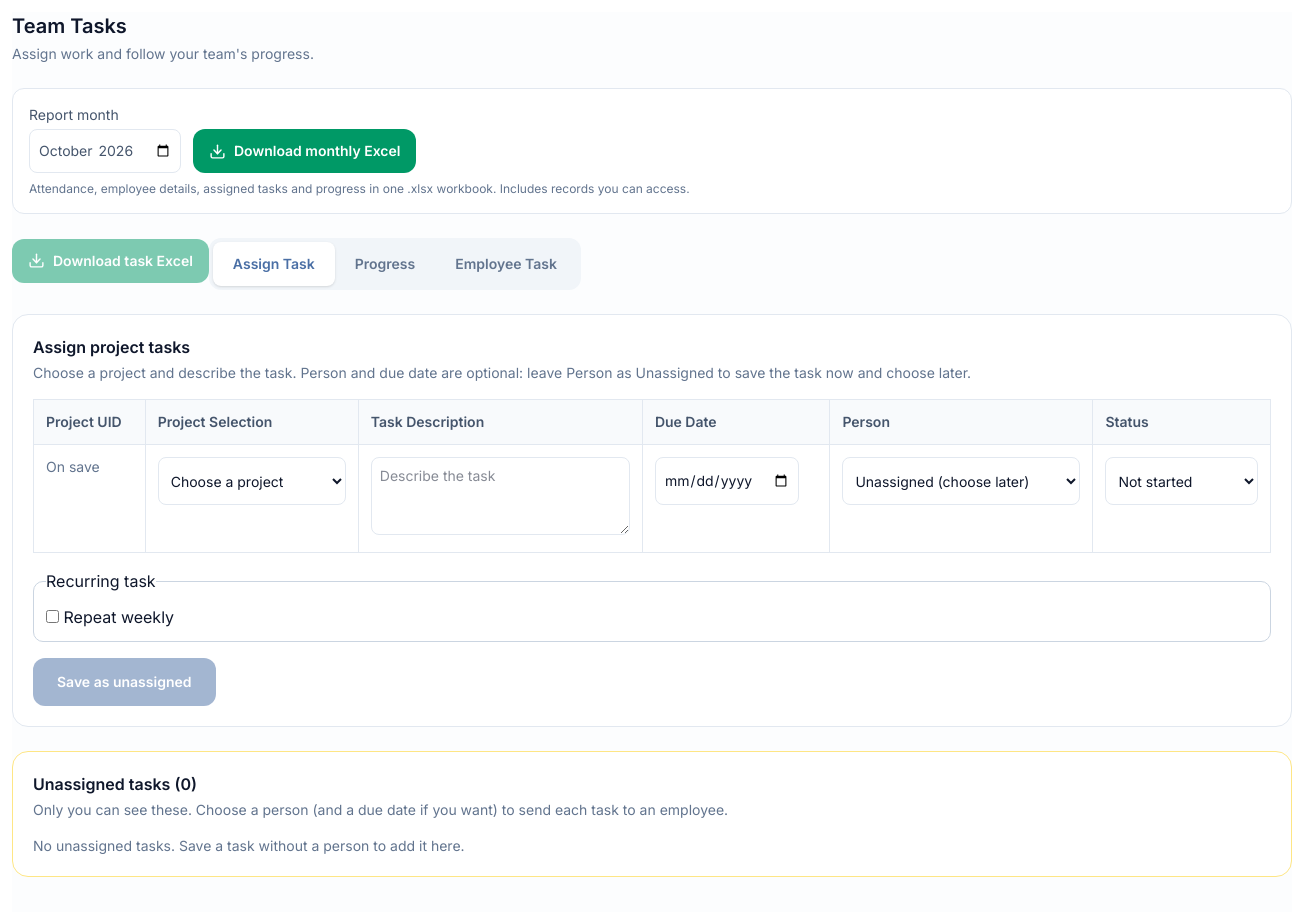
Scenario: manager task assignments › keeps the task form on a failed assignment
This screenshot has width=1292, height=912.
Select "My Employee" in the dropdown named "Person" at (961, 481), box 842,457 -> 1080,505
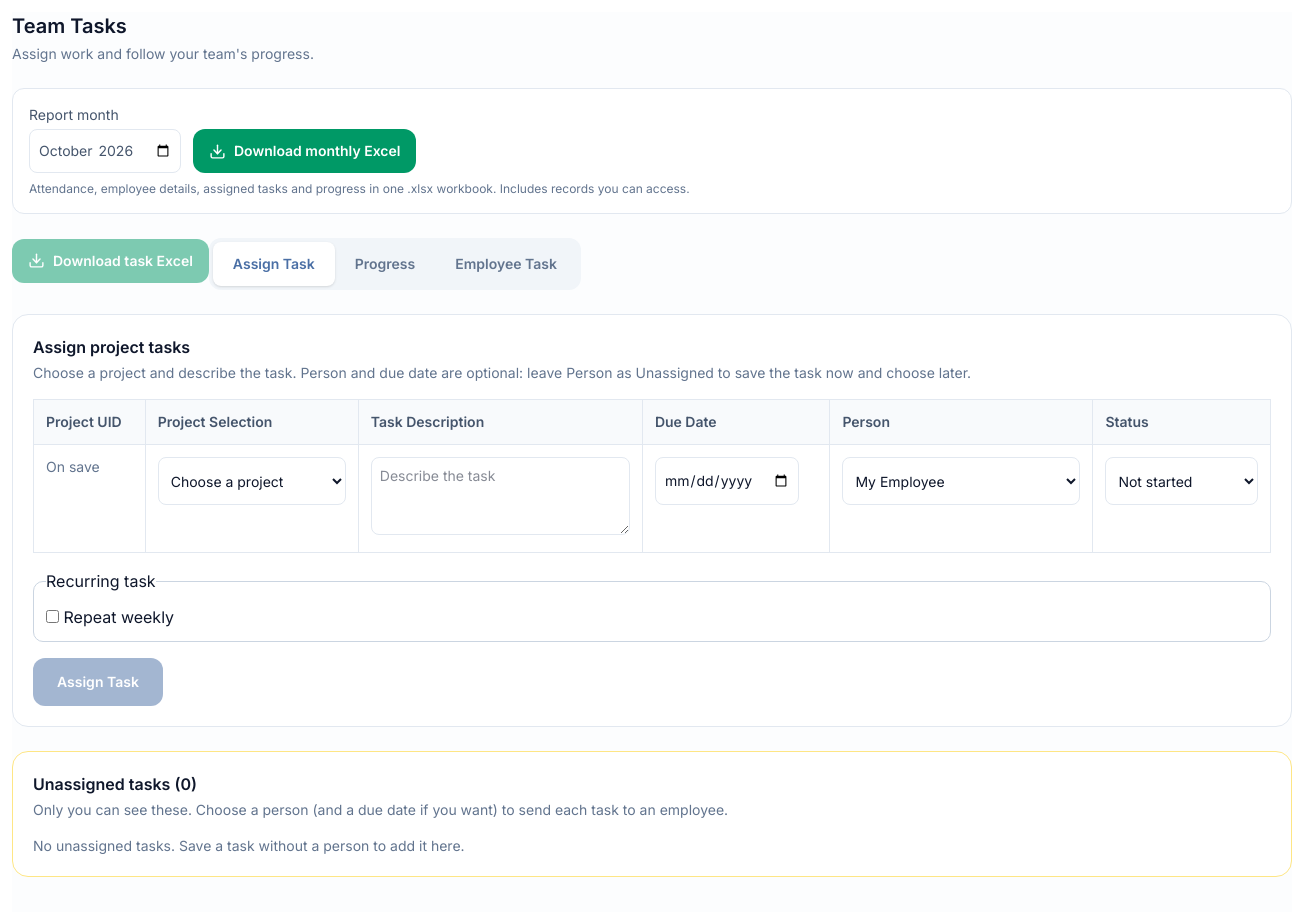
Select "+ Add new project" in the dropdown named "Project Selection" at (252, 481), box 158,457 -> 346,505
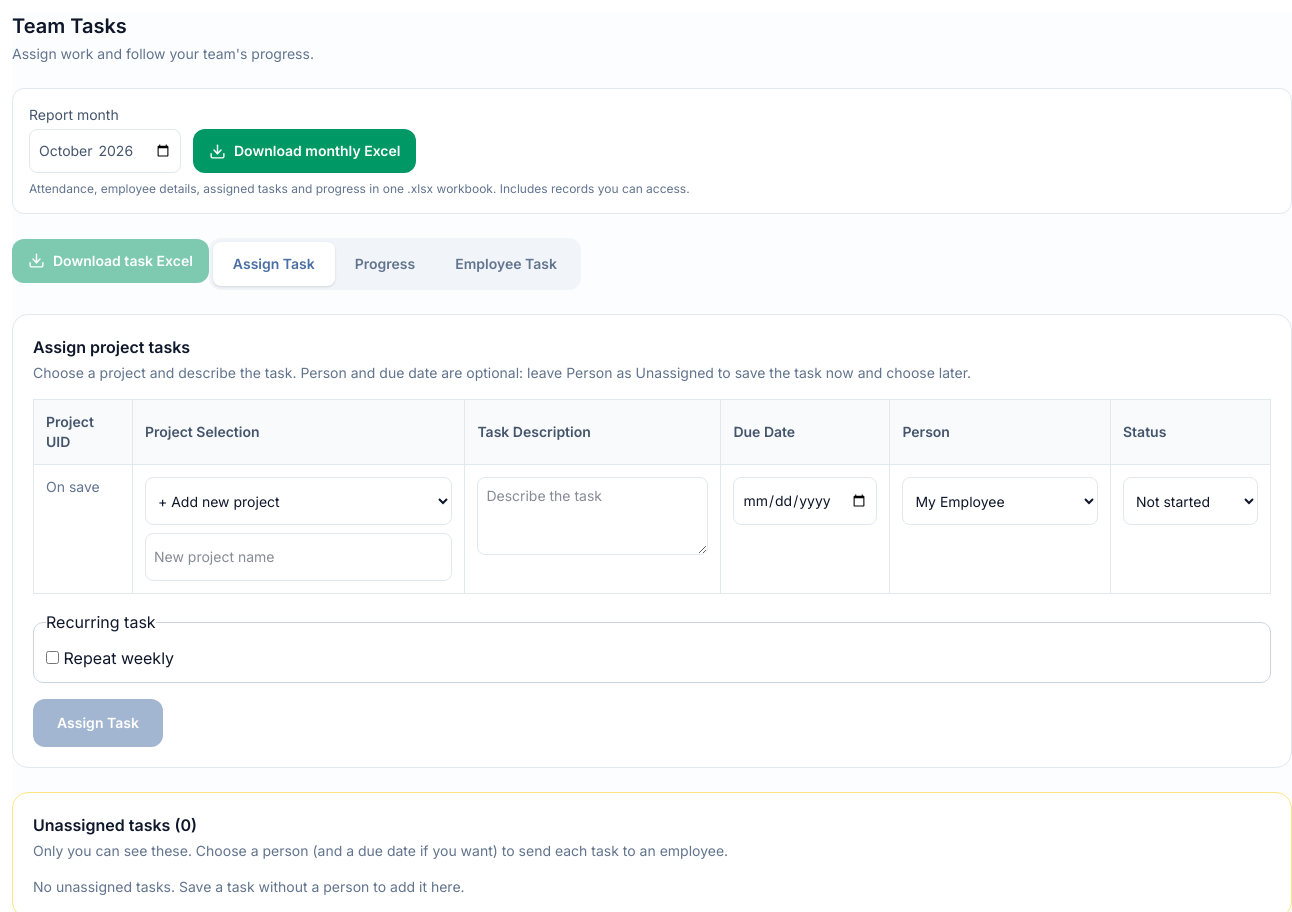
Type " Tower A " into the field labelled "New project name".
click(299, 557); type(" Tower A ")  # box 145,533 -> 452,581
Type "Review drawing" into the text box named "Task Description".
click(593, 516); type("Review drawing")  # box 477,477 -> 708,555
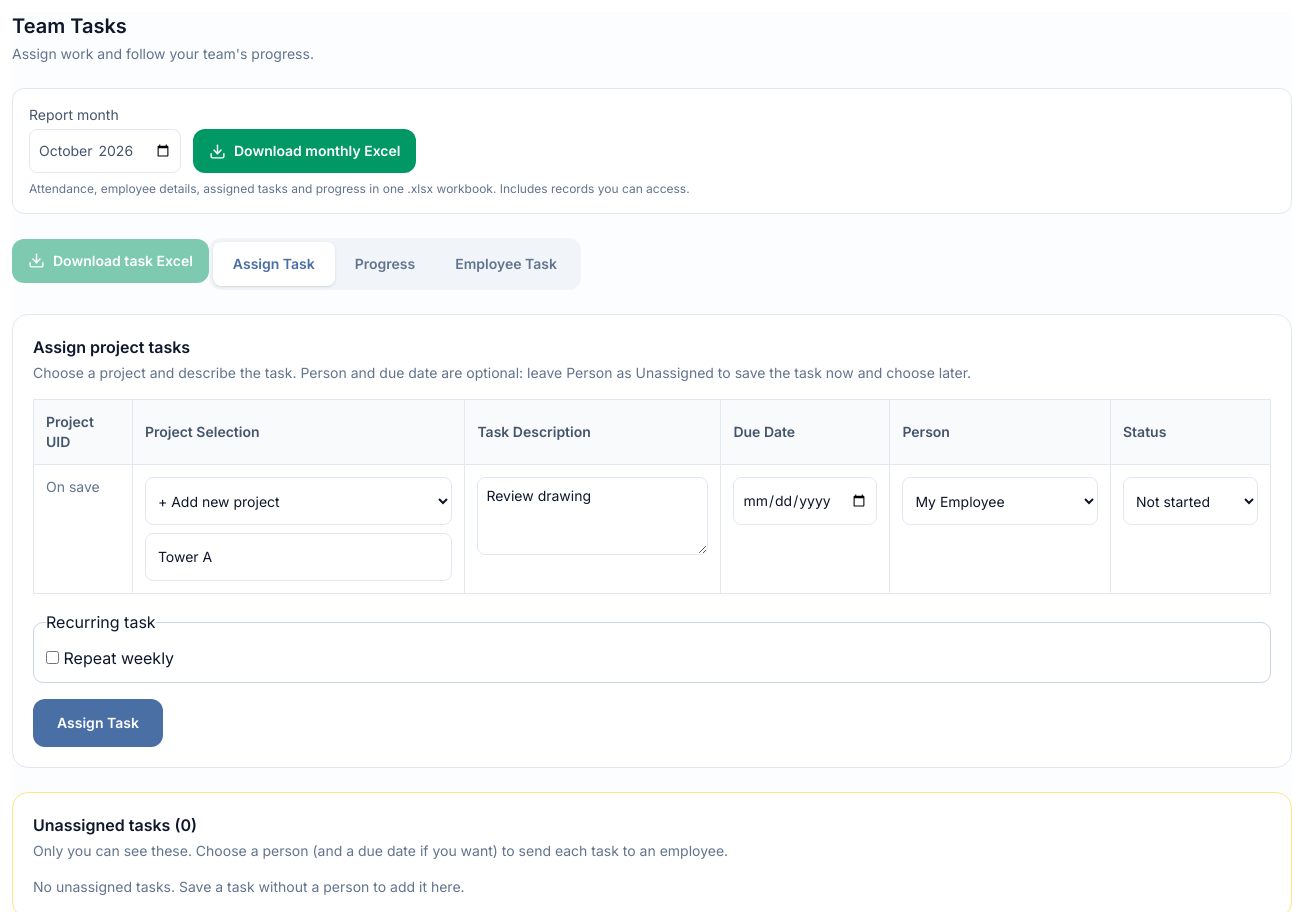
Type "2026-10-15" into the date field named "Due Date".
click(805, 501); type("2026-10-15")  # box 733,477 -> 877,525
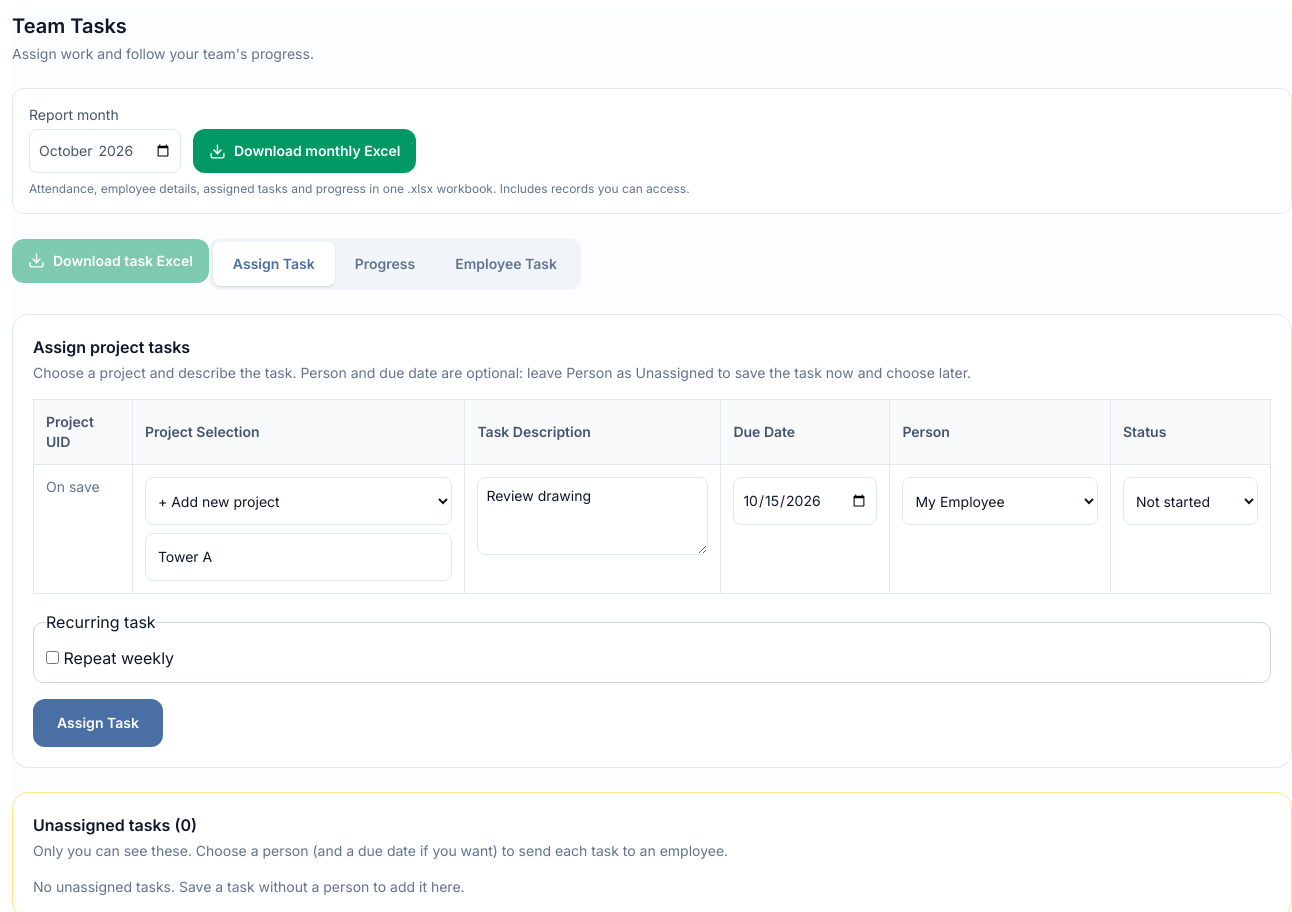
Select "In progress" in the dropdown named "Status" at (1190, 501), box 1123,477 -> 1258,525
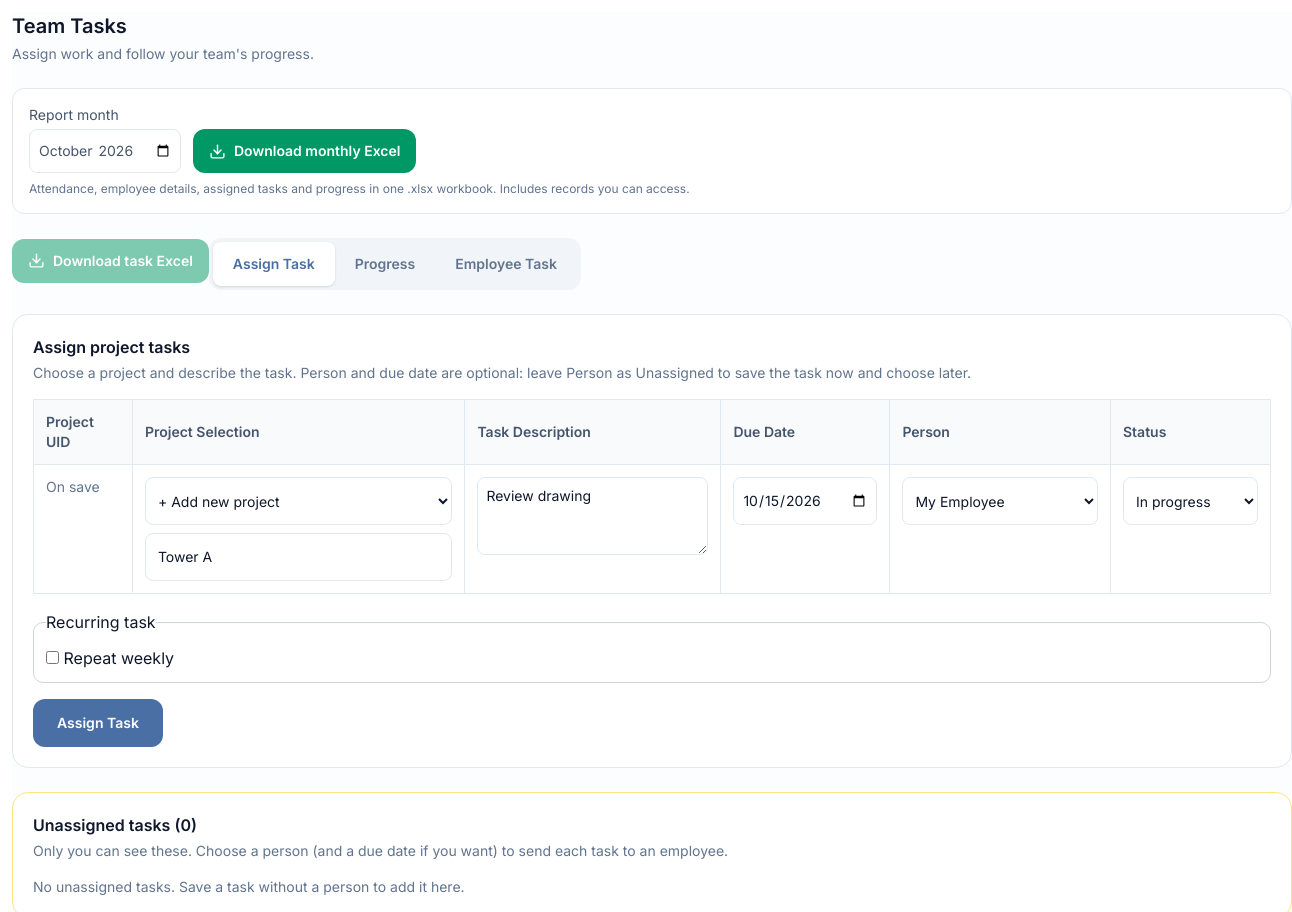
Click the button "Assign Task".
click(98, 723)  # box 33,699 -> 163,747
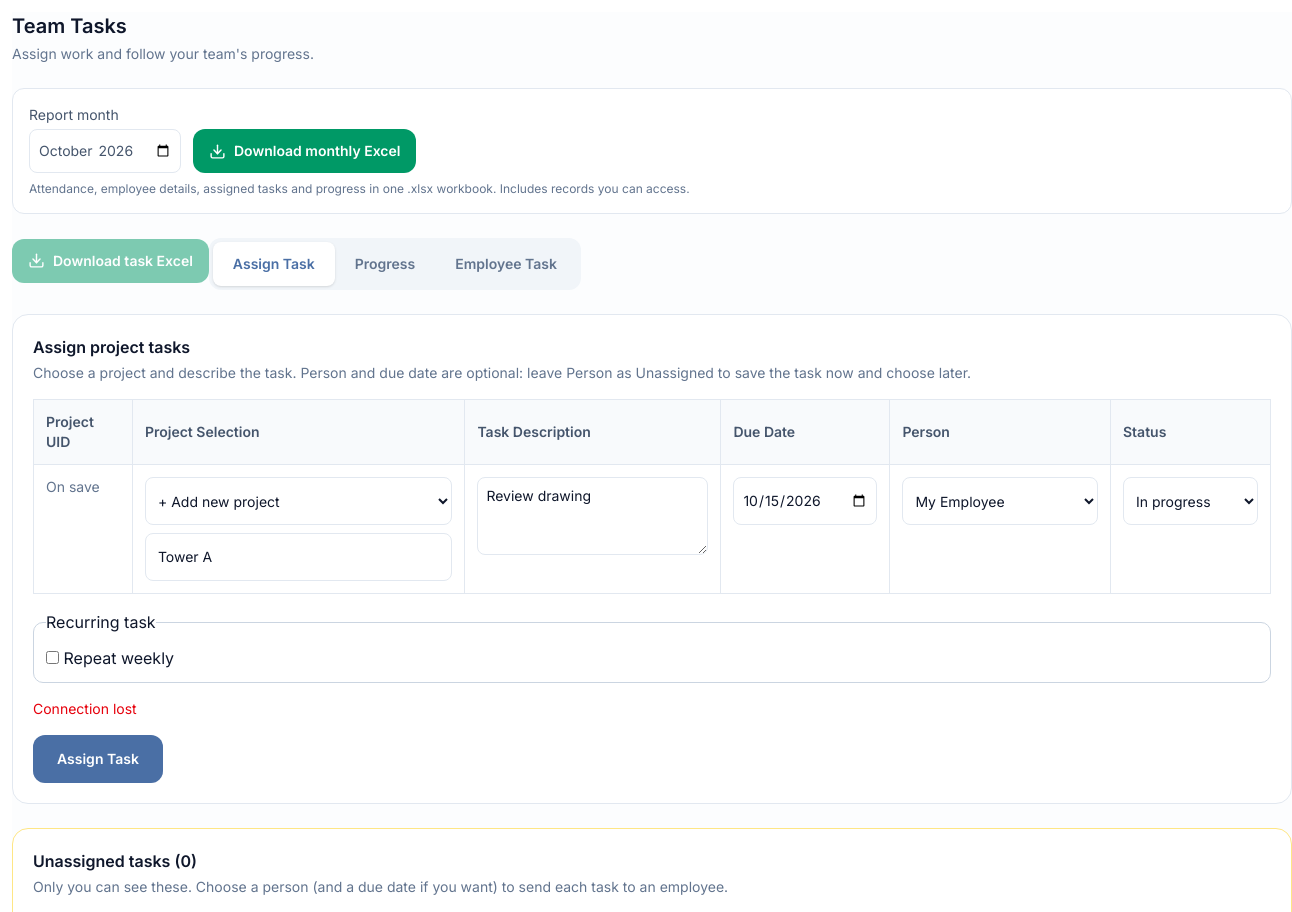
Now the message reads "Connection lost", box 33,700 -> 137,717
